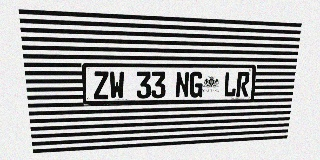3: (136, 71, 151, 99), (151, 71, 166, 98)
G: (189, 72, 203, 98)
L: (223, 72, 237, 97)
N: (175, 72, 190, 98)
R: (236, 72, 250, 97)
W: (109, 71, 125, 99)
Z: (93, 71, 109, 99)
